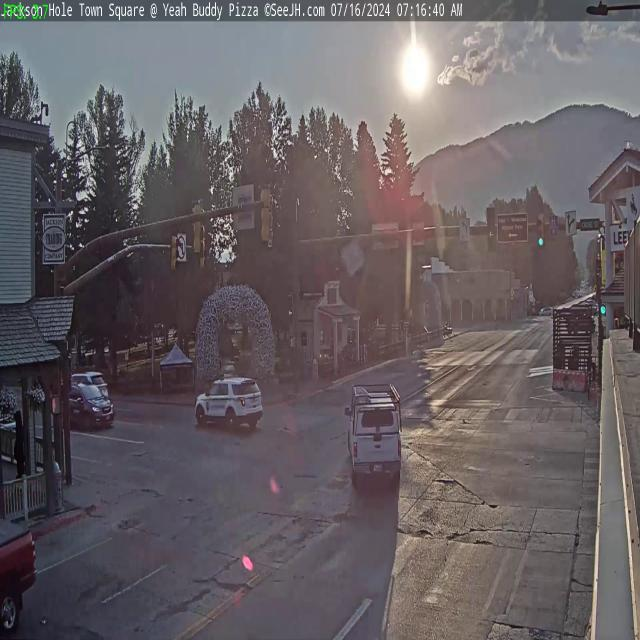suv: (195, 374, 263, 434), (52, 374, 115, 431)
traffic light: (260, 184, 274, 245), (190, 199, 203, 256), (487, 206, 496, 251), (536, 215, 545, 247), (172, 234, 178, 270), (201, 238, 207, 270)
truck: (346, 381, 404, 482)
